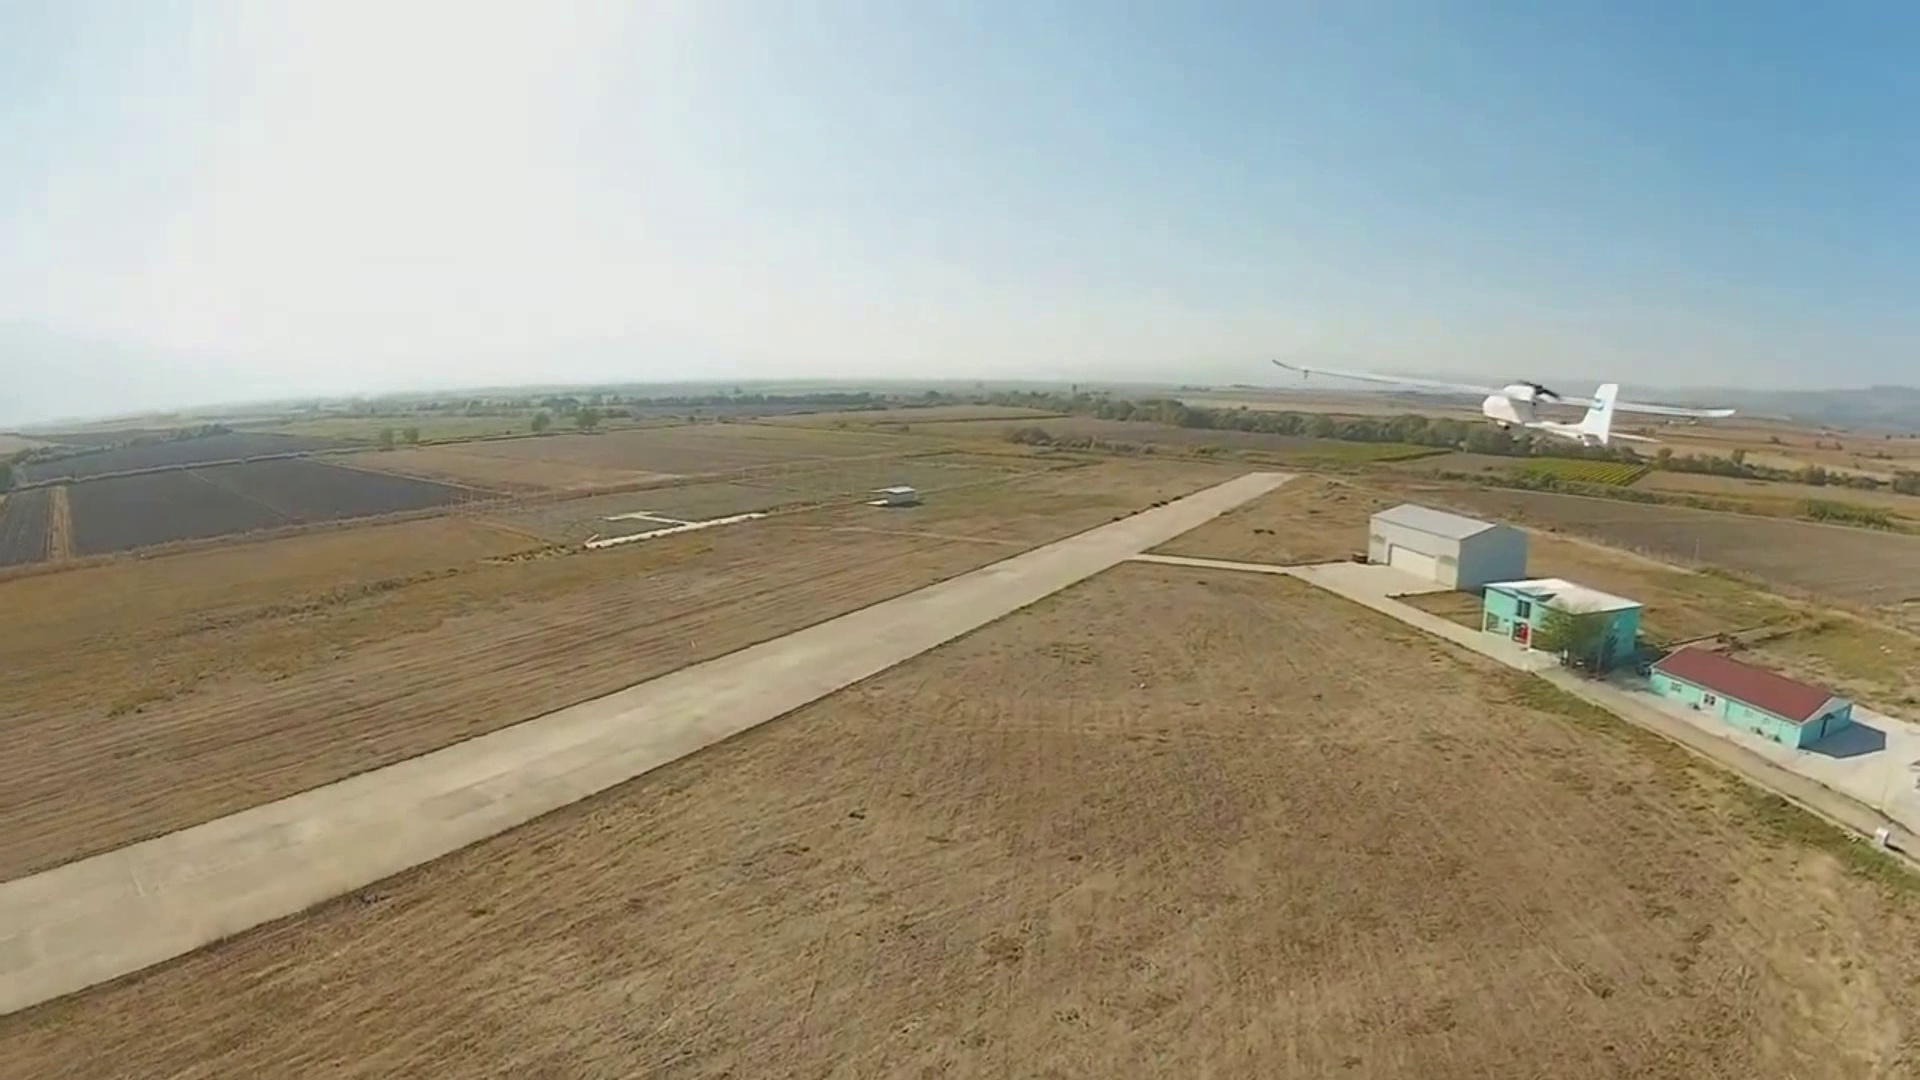airplane: (1259, 375, 1741, 452), (1478, 382, 1619, 454)
